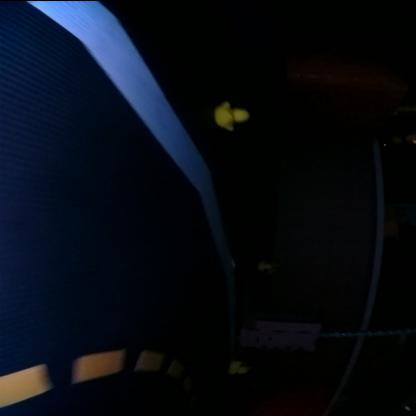Duckie: (216, 102, 249, 128), (228, 359, 250, 375), (258, 260, 272, 270)
